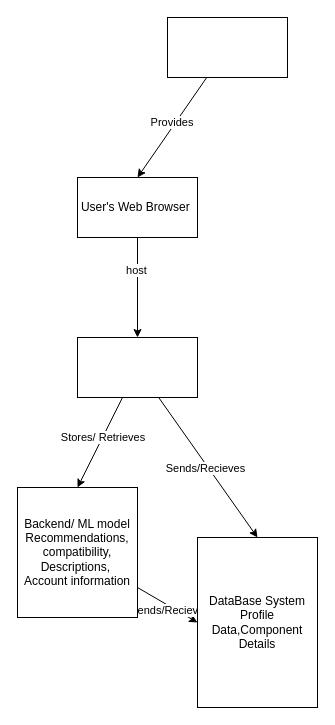
The diagram is 335 pixels wide and 725 high, and some of its shapes have lost their labels. Here are the shapes that lost their labels. From the top down, the centre of each, then its label:
At point (227, 47): "PC Buidling Assistant".
At point (137, 367): "Front-end/ user interaction".
